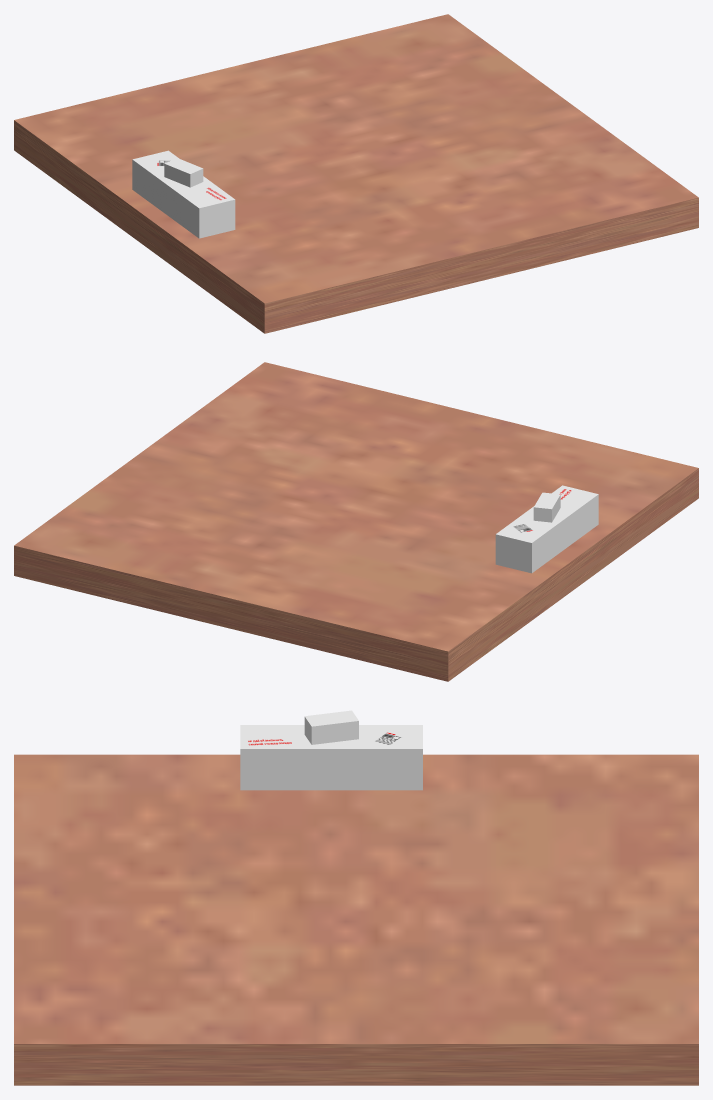
File: main.gltf
The picture shows the model from 3 angles, top to bottom: view 1: azimuth 30°, elevation 25°; view 2: azimuth 150°, elevation 25°; view 3: azimuth 270°, elevation 25°; orthographic projection. The views are drawn at different scales.
Parts seen in each view (by area): view 1: Ground2, MeshInstance3D, MeshInstance3D2; view 2: Ground2, MeshInstance3D, MeshInstance3D2; view 3: Ground2, MeshInstance3D, MeshInstance3D2.
Part boxes in pixels (x1,y1,x2,y2): Ground2: (14, 14, 698, 333); MeshInstance3D: (132, 150, 235, 238); MeshInstance3D2: (164, 158, 203, 187); Ground2: (14, 362, 698, 681); MeshInstance3D: (495, 485, 598, 573); MeshInstance3D2: (533, 492, 560, 522); Ground2: (14, 754, 698, 1085); MeshInstance3D: (240, 725, 422, 790); MeshInstance3D2: (304, 710, 358, 744).
Bounding box in the file's own units: 15 × 2.44 × 15.
Materials: 6 (3 with a texture image).
